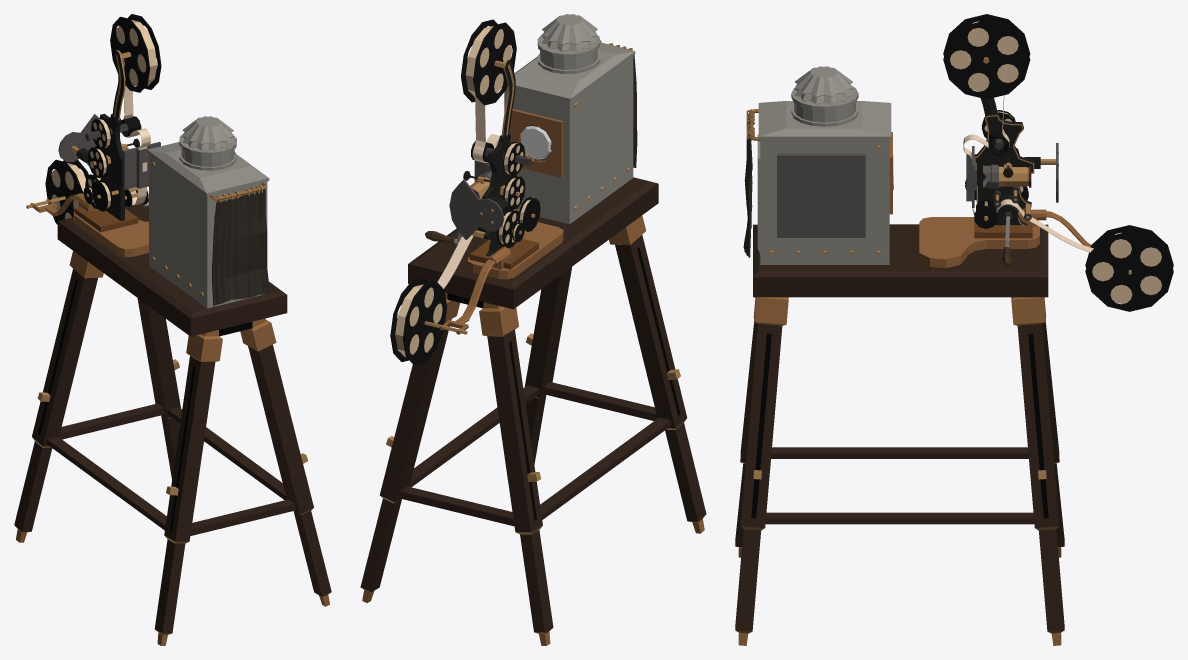
The model's file is Prop_Llanterna_02.fbx.
The picture shows the model from 3 angles, left to right: view 1: azimuth 30°, elevation 25°; view 2: azimuth 150°, elevation 25°; view 3: azimuth 270°, elevation 25°; orthographic projection. The views are drawn at different scales.
Parts seen in each view (by area): view 1: Cube, lamp-floor-steampunk-b.001, Cube.003, lamp-floor-steampunk-b.003, lamp-floor-steampunk-b.002, Plane, lamp-floor-steampunk-b.004, Cylinder.017, Cube.013, Cylinder.008, Cube.014, Plane.001 (+12 smaller); view 2: Cube, lamp-floor-steampunk-b.003, Cube.003, lamp-floor-steampunk-b.001, lamp-floor-steampunk-b.004, lamp-floor-steampunk-b.002, Cylinder.053, Cylinder.017, Cube.013, Cylinder.058, Cube.006, Cube.014 (+13 smaller); view 3: Cube, Cube.003, lamp-floor-steampunk-b.002, lamp-floor-steampunk-b.004, Cube.005, Cylinder.053, Cylinder.017, Cube.014, Cylinder.008, Cube.013, Plane.001, Cylinder.052 (+9 smaller).
Boxes of the visible parts, x1,y1,x2,y2 form: Cube: (147, 142, 269, 308); lamp-floor-steampunk-b.001: (154, 330, 222, 645); Cube.003: (57, 199, 287, 336); lamp-floor-steampunk-b.003: (14, 251, 103, 542); lamp-floor-steampunk-b.002: (240, 318, 331, 606); Plane: (212, 189, 269, 305); lamp-floor-steampunk-b.004: (137, 298, 180, 479); Cylinder.017: (110, 14, 161, 92); Cube.013: (46, 436, 166, 530); Cylinder.008: (73, 211, 148, 257); Cube.014: (167, 407, 286, 499); Plane.001: (94, 113, 124, 220); Cube: (504, 43, 635, 224); lamp-floor-steampunk-b.003: (479, 302, 553, 645); Cube.003: (408, 177, 658, 309); lamp-floor-steampunk-b.001: (609, 215, 706, 533); lamp-floor-steampunk-b.004: (360, 293, 459, 602); lamp-floor-steampunk-b.002: (524, 267, 571, 464); Cylinder.053: (390, 278, 447, 364); Cylinder.017: (461, 19, 516, 105); Cube.013: (540, 417, 671, 519); Cylinder.058: (449, 179, 504, 239); Cube.006: (510, 109, 563, 177); Cube.014: (409, 385, 539, 487); Cube: (757, 101, 891, 264); Cube.003: (753, 224, 1048, 297); lamp-floor-steampunk-b.002: (735, 297, 788, 645); lamp-floor-steampunk-b.004: (1011, 297, 1064, 645); Cube.005: (777, 153, 865, 237); Cylinder.053: (1085, 225, 1173, 311); Cylinder.017: (943, 14, 1030, 99); Cube.014: (765, 512, 1034, 524); Cylinder.008: (919, 217, 1039, 267); Cube.013: (771, 447, 1028, 458); Plane.001: (974, 113, 1034, 226); Cylinder.052: (1092, 239, 1161, 303).
Bounding box in the file's own units: 54.2 × 161 × 109.
